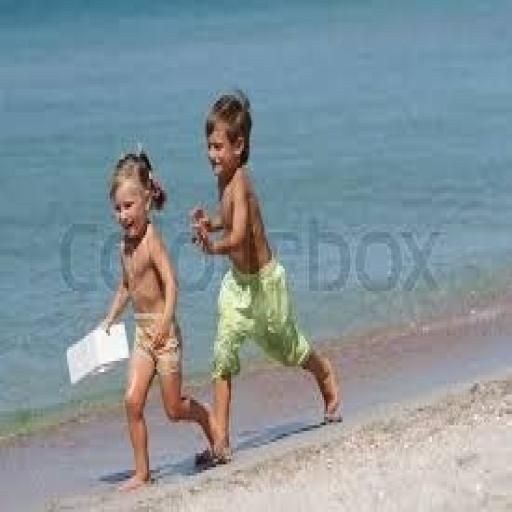running: (188, 87, 344, 467), (99, 146, 216, 495)
